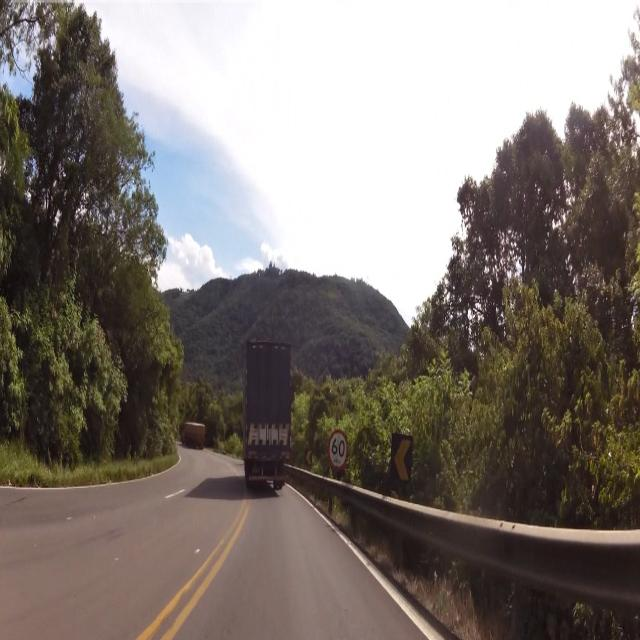Del: (389, 424, 416, 495)
R-19: (329, 424, 350, 474)
